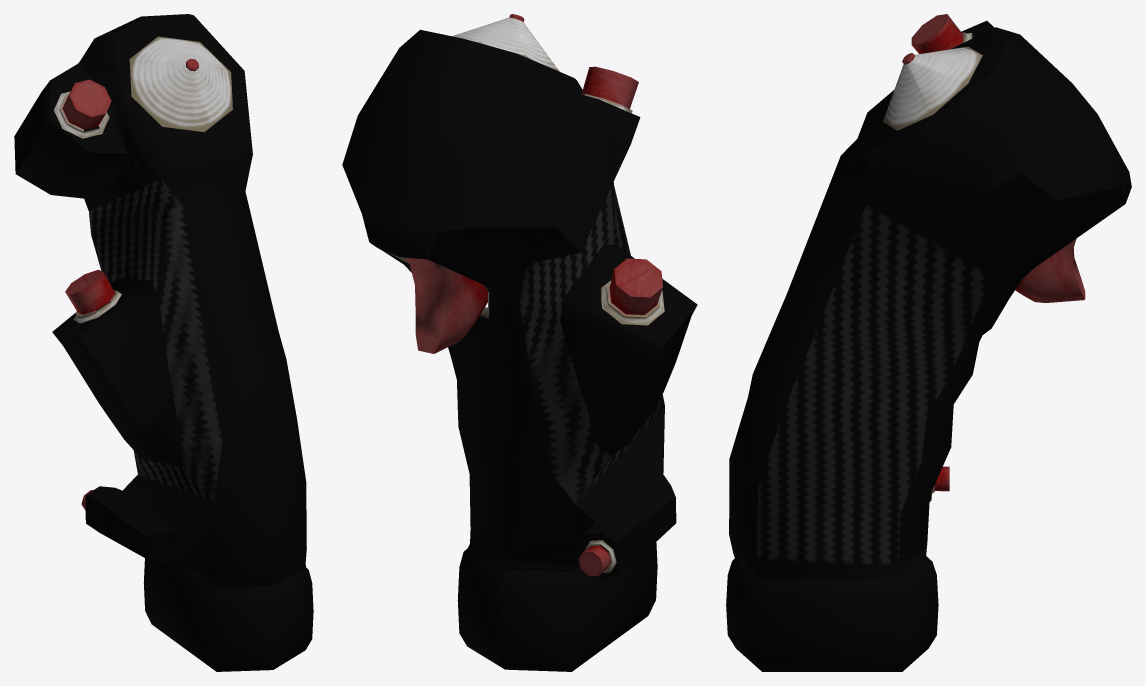
The model's file is ip_grip.glb.
3 renders of one model, left to right at view 1: azimuth 30°, elevation 25°; view 2: azimuth 150°, elevation 25°; view 3: azimuth 270°, elevation 25°, orthographic. The views are drawn at different scales.
Parts seen in each view (by area): view 1: O_ip_grip__Body; view 2: O_ip_grip__Body; view 3: O_ip_grip__Body.
Part boxes in pixels (x1=…): O_ip_grip__Body: x1=14, y1=14, x2=313, y2=671; O_ip_grip__Body: x1=342, y1=14, x2=697, y2=671; O_ip_grip__Body: x1=726, y1=14, x2=1131, y2=671.
Size of the model in its own units: 0.1439 by 0.3554 by 0.2157.
1 material, 1 textured.
